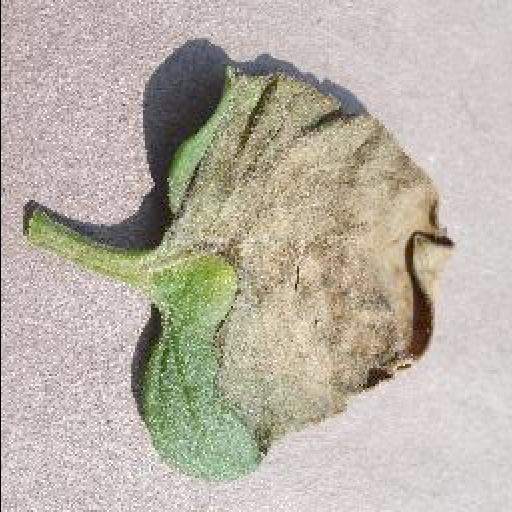disease_tomato: (129, 62, 455, 482)
